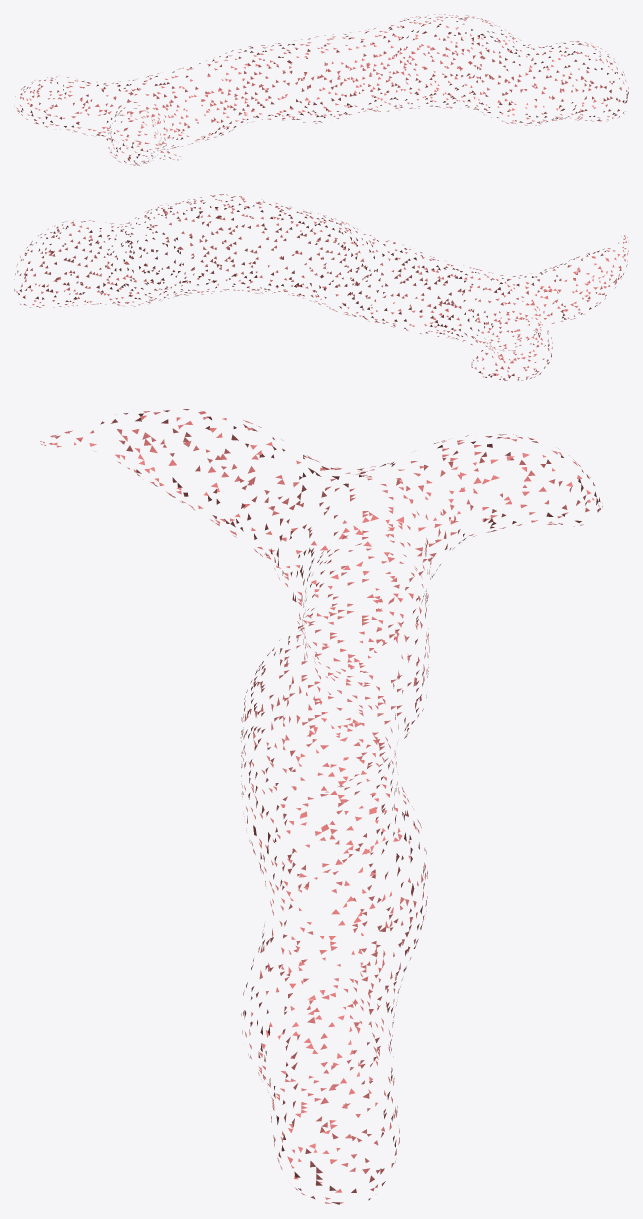
File: morph_000.glb
3 renders of one model, top to bottom at view 1: azimuth 30°, elevation 25°; view 2: azimuth 150°, elevation 25°; view 3: azimuth 270°, elevation 25°, orthographic. The views are drawn at different scales.
Bounding box in the file's own units: 120 × 30.31 × 52.54.
